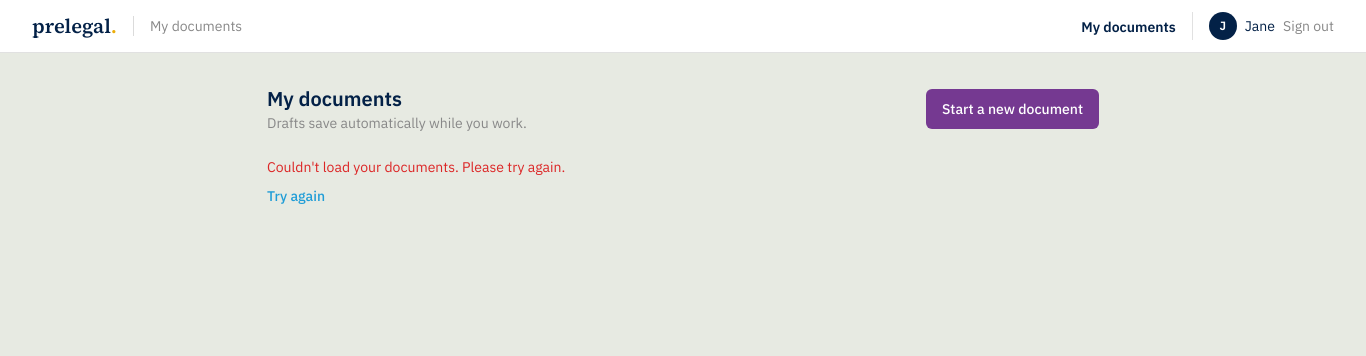
Test: DocumentsPage › shows a retryable error when loading fails
This screenshot has width=1366, height=356.
Expected: the text "Couldn't load your documents. Please try again." is shown, [267,158,565,176]
Click the button "Try again": point(296, 196) [267,186,325,206]
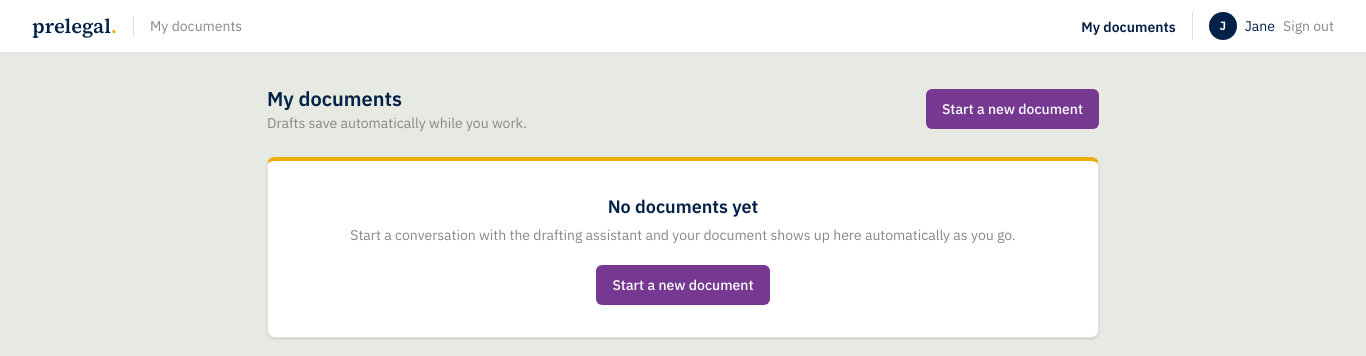
Expected: the text "No documents yet" is shown, [608,195,758,218]
